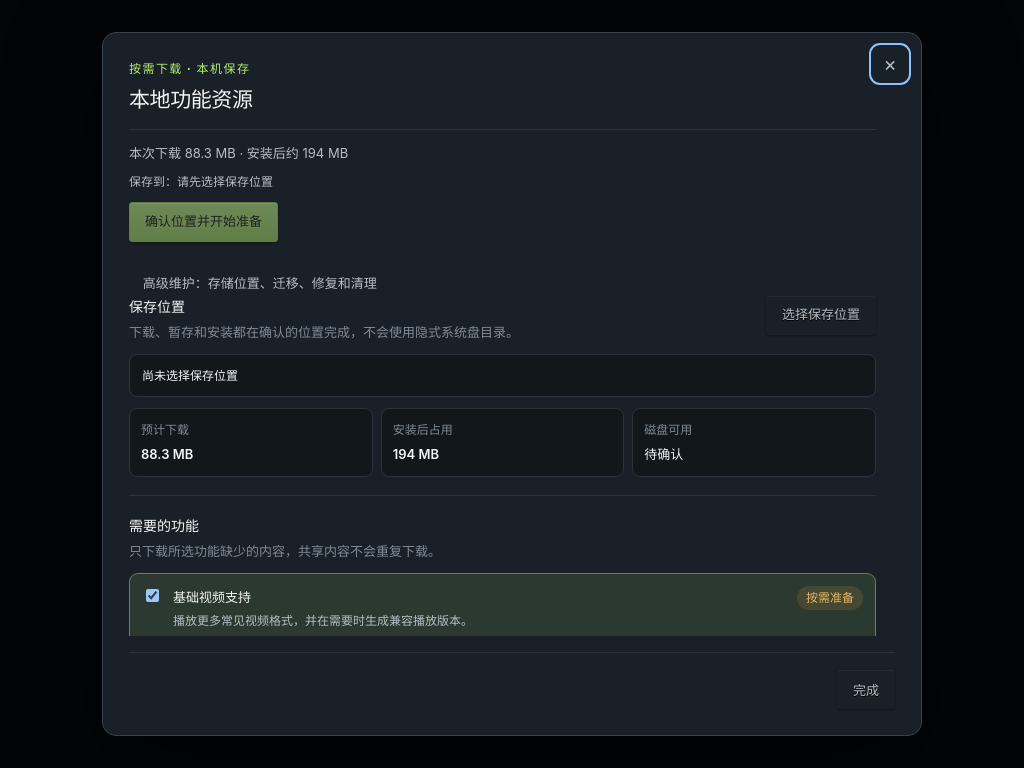
Test: LocalResourcesDialog › shows directory selection errors before the scrollable setup content
Step 1. Click the button "选择保存位置" → (821, 314), box [766,294,876,334]
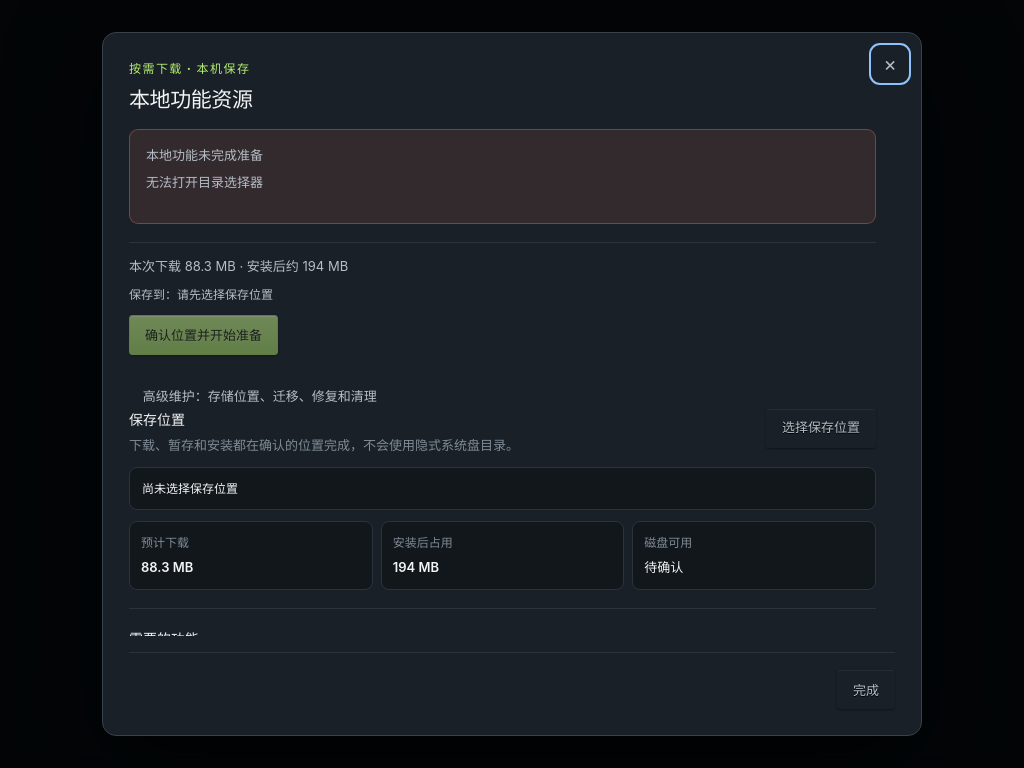
Expected: the message shows "无法打开目录选择器", [146,174,263,190]
